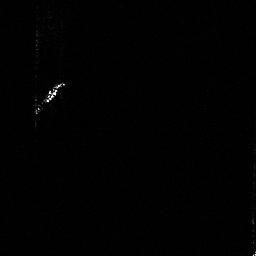ship: (30, 78, 69, 117)
